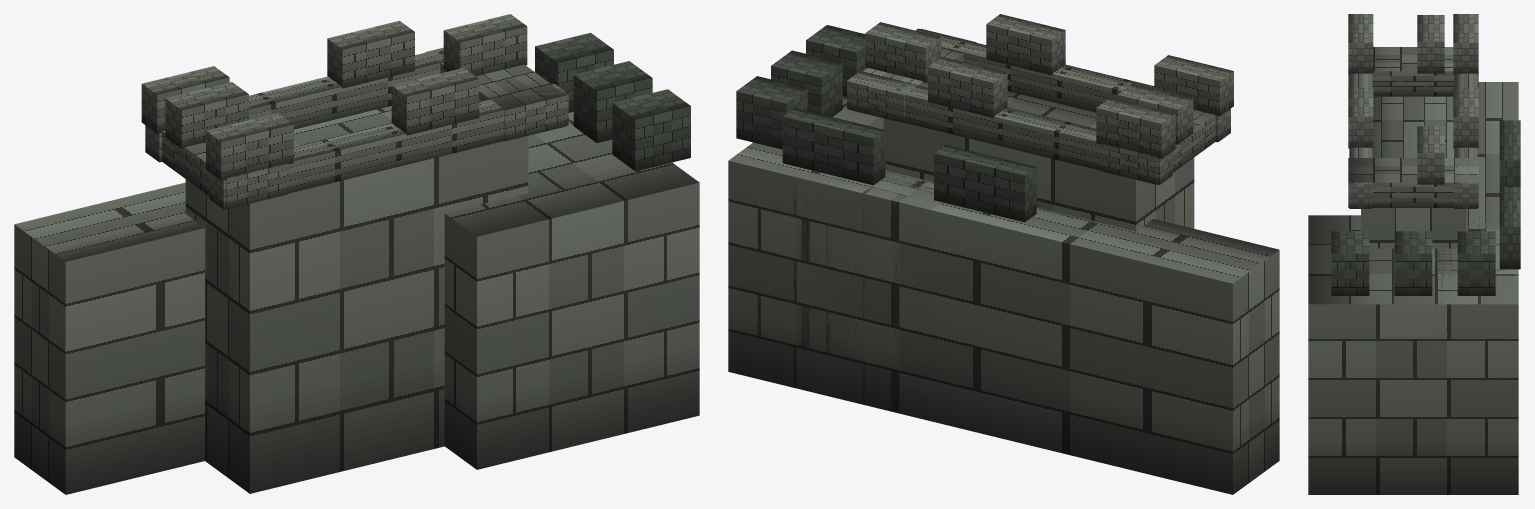
File: wall_corner.gltf
3 views of the same model, side by side, from view 1: azimuth 30°, elevation 25°; view 2: azimuth 150°, elevation 25°; view 3: azimuth 270°, elevation 25° (orthographic). The views are drawn at different scales.
Visible parts, largest first — view 1: wall_corner; view 2: wall_corner; view 3: wall_corner.
Boxes of the visible parts, bbox=[...] form: wall_corner: bbox=[14, 14, 699, 494]; wall_corner: bbox=[728, 14, 1279, 494]; wall_corner: bbox=[1308, 14, 1520, 494].
Bounding box in the file's own units: 2.52 × 1.57 × 1.01.
Materials: 1 (1 with a texture image).
